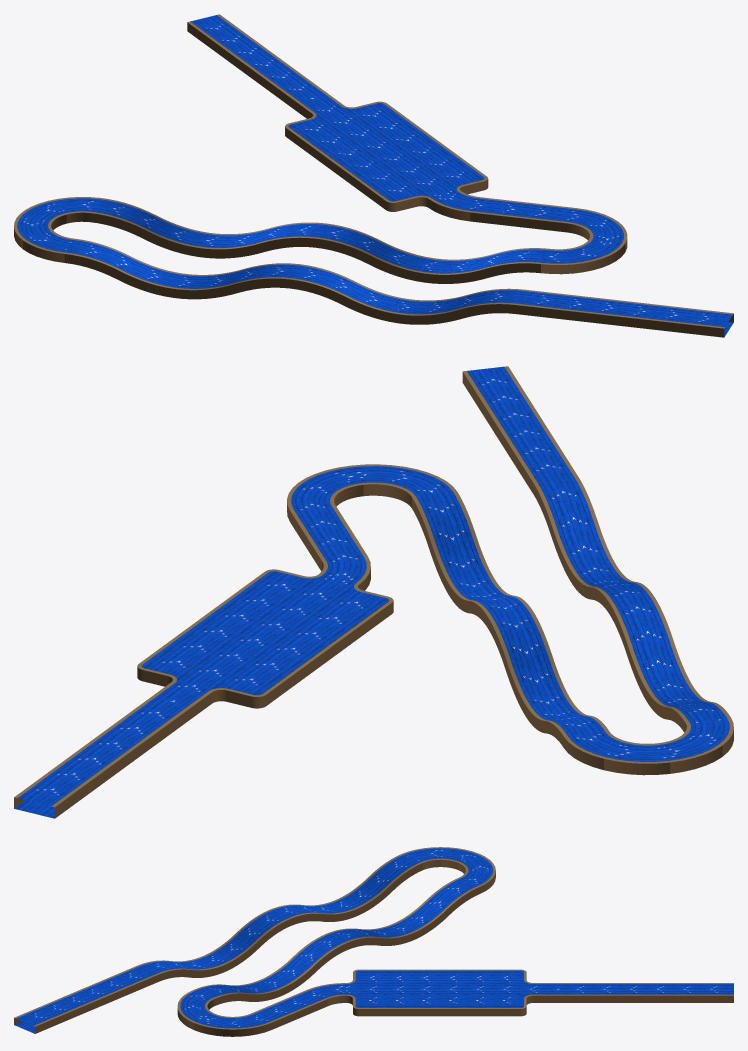
File: ramp_32.FBX
3 renders of one model, top to bottom at view 1: azimuth 30°, elevation 25°; view 2: azimuth 150°, elevation 25°; view 3: azimuth 270°, elevation 25°, orthographic. The views are drawn at different scales.
Visible parts, largest first — view 1: ramp_32; view 2: ramp_32; view 3: ramp_32.
Boxes of the visible parts, left/top/right/bottom form: ramp_32: left=14, top=14, right=733, bottom=337; ramp_32: left=14, top=366, right=733, bottom=818; ramp_32: left=14, top=847, right=733, bottom=1036.
Bounding box in the file's own units: 6458 × 419 × 10767.
